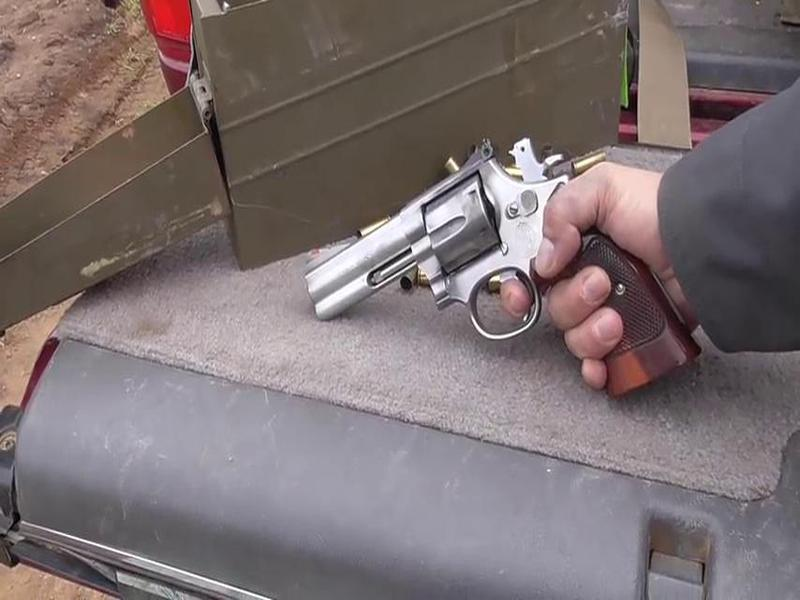Revolver: (296, 136, 626, 394)
